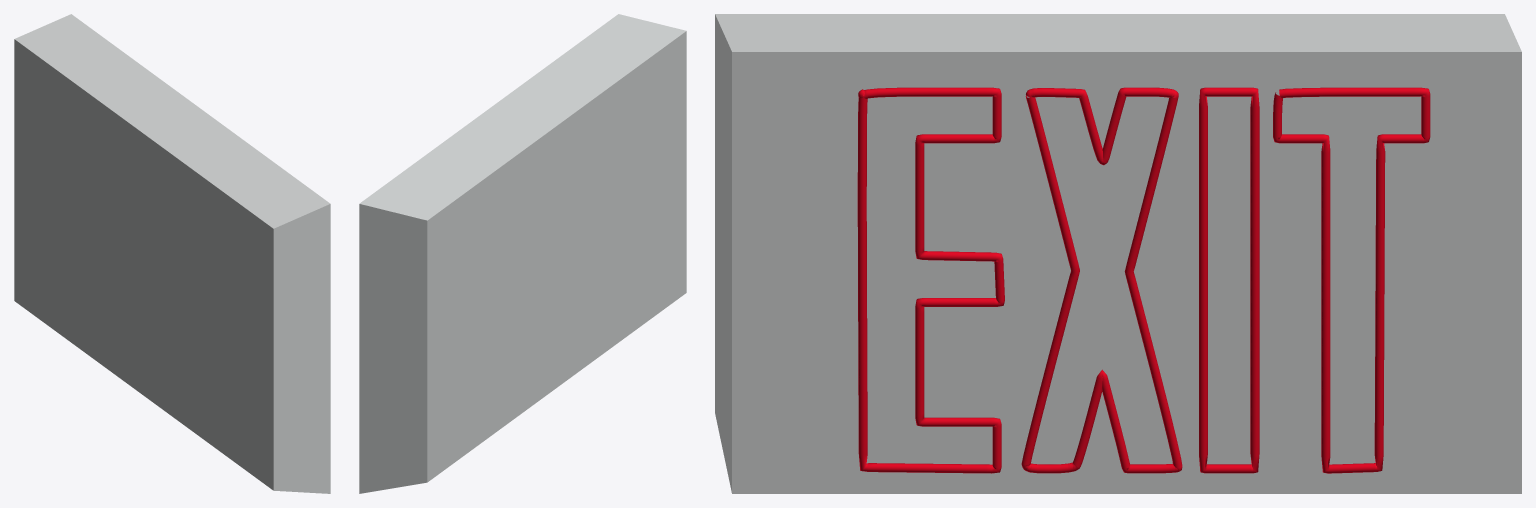
The model's file is ExitSign (2).fbx.
The picture shows the model from 3 angles, left to right: view 1: azimuth 30°, elevation 25°; view 2: azimuth 150°, elevation 25°; view 3: azimuth 270°, elevation 25°; orthographic projection. The views are drawn at different scales.
Visible parts, largest first — view 1: Cube; view 2: Cube; view 3: Cube, Trace.
Part boxes in pixels (box(x1,y1,x2,y2)): Cube: box(14, 14, 330, 493); Cube: box(359, 14, 686, 493); Cube: box(715, 14, 1521, 493); Trace: box(857, 87, 1430, 473).
Bounding box in the file's own units: 104 × 433 × 716.
